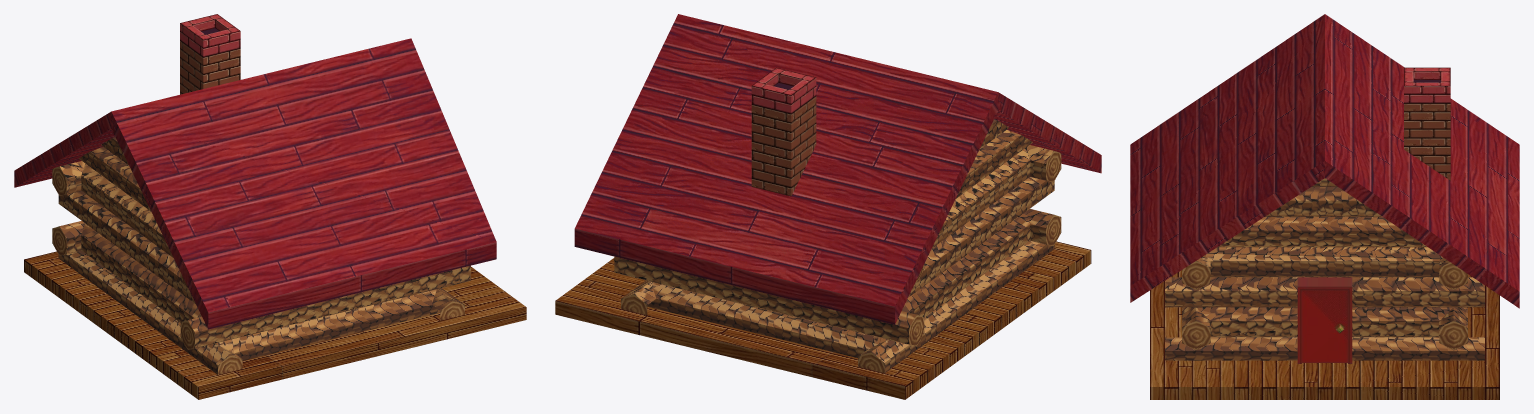
The model's file is plaza_house_red.glb.
3 renders of one model, left to right at view 1: azimuth 30°, elevation 25°; view 2: azimuth 150°, elevation 25°; view 3: azimuth 270°, elevation 25°, orthographic. The views are drawn at different scales.
Parts seen in each view (by area): view 1: RedHouse; view 2: RedHouse; view 3: RedHouse.
Part boxes in pixels (x1,y1,x2,y2): RedHouse: [14, 14, 526, 399]; RedHouse: [555, 14, 1101, 399]; RedHouse: [1130, 14, 1519, 399].
Bounding box in the file's own units: 13.9 × 9.52 × 14.23.
Materials: 7 (7 with a texture image).
